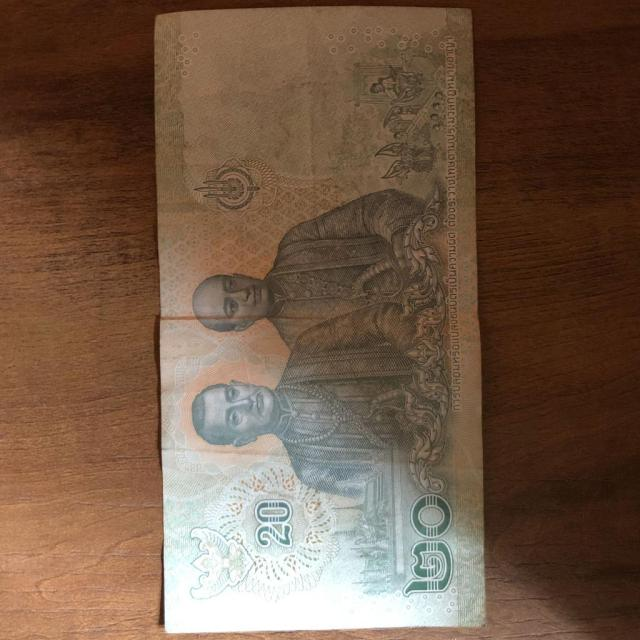THAI20: (155, 7, 484, 632)
